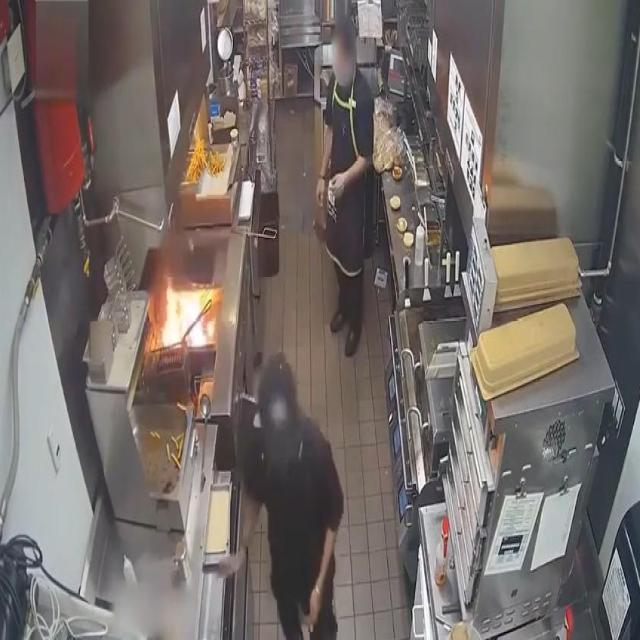smoke: (156, 278, 219, 347)
